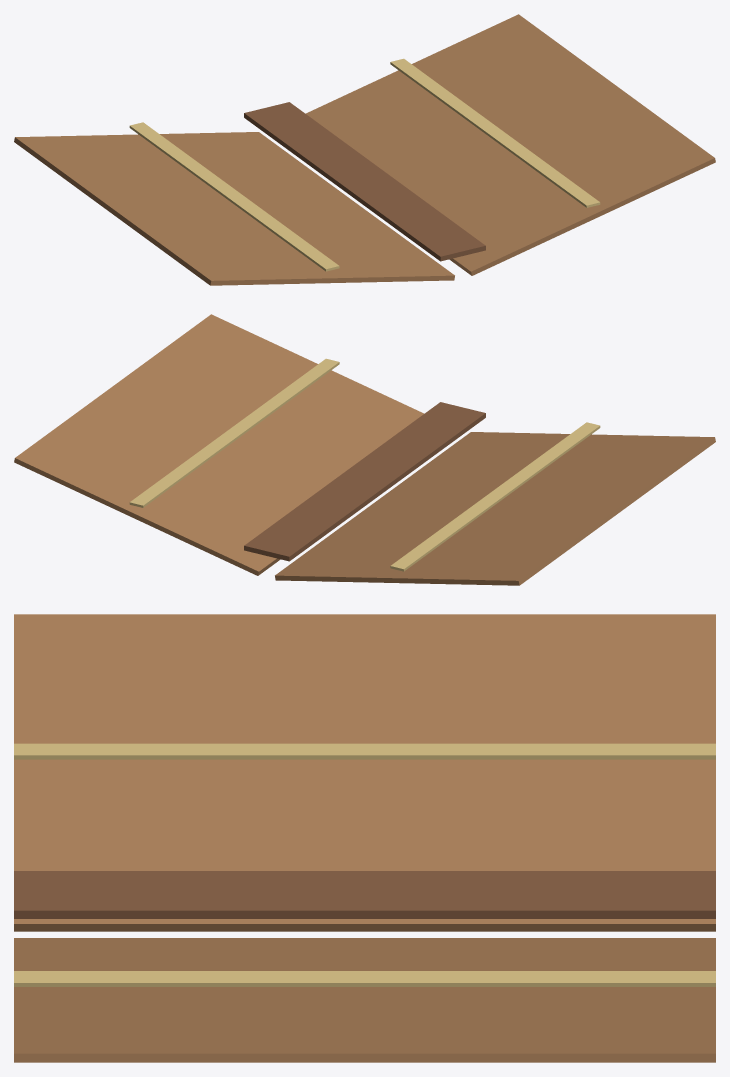
The model's file is prop-leather-cover-blank.fbx.
3 renders of one model, top to bottom at view 1: azimuth 30°, elevation 25°; view 2: azimuth 150°, elevation 25°; view 3: azimuth 270°, elevation 25°, orthographic. The views are drawn at different scales.
Parts seen in each view (by area): view 1: prop-leather-cover-blank; view 2: prop-leather-cover-blank; view 3: prop-leather-cover-blank.
Boxes of the visible parts, x1,y1,x2,y2 form: prop-leather-cover-blank: (14, 14, 715, 285); prop-leather-cover-blank: (14, 314, 715, 585); prop-leather-cover-blank: (14, 614, 715, 1062).
Bounding box in the file's own units: 44.6 × 4.97 × 30.
